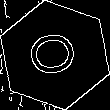O_E: (25, 29, 85, 81)
